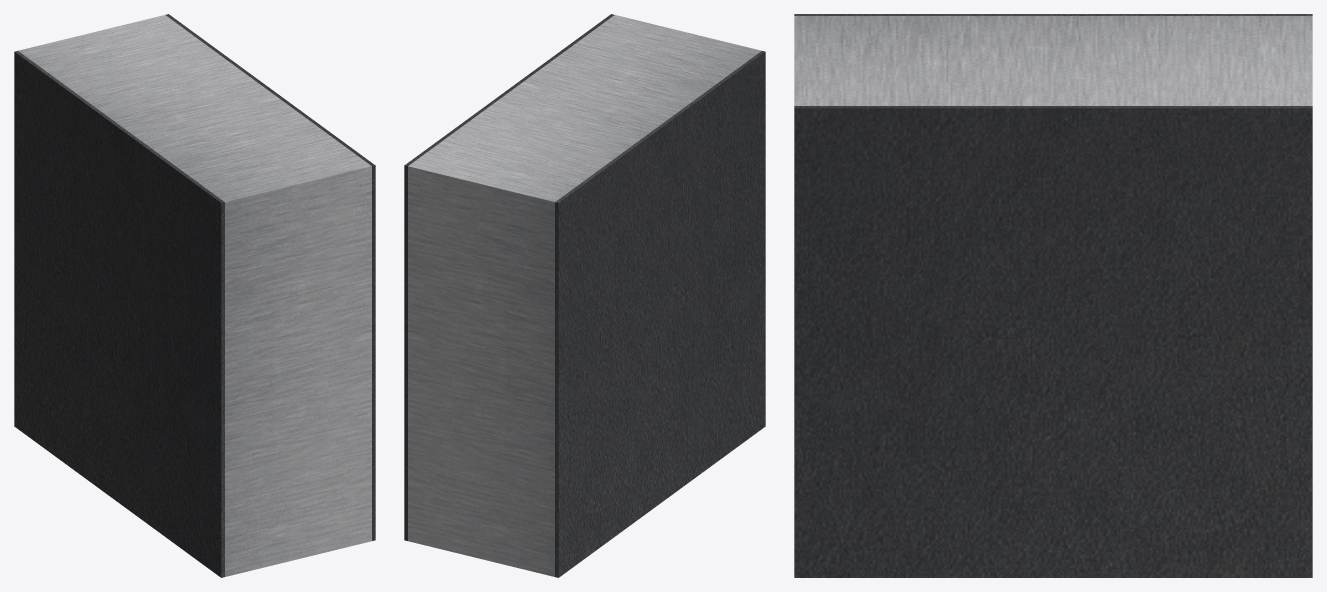
File: 05_computer_tower_destructible_largeparts.glb
The picture shows the model from 3 angles, left to right: view 1: azimuth 30°, elevation 25°; view 2: azimuth 150°, elevation 25°; view 3: azimuth 270°, elevation 25°; orthographic projection. The views are drawn at different scales.
Parts seen in each view (by area): view 1: Main_Rack_No_Side_Covers, Side_Cover_Left, Side_Cover_Right; view 2: Main_Rack_No_Side_Covers, Side_Cover_Left, Side_Cover_Right; view 3: Side_Cover_Right, Main_Rack_No_Side_Covers, Side_Cover_Left.
Boxes of the visible parts, x1,y1,x2,y2 form: Main_Rack_No_Side_Covers: [18, 15, 371, 576]; Side_Cover_Left: [14, 51, 224, 577]; Side_Cover_Right: [165, 14, 375, 540]; Main_Rack_No_Side_Covers: [408, 15, 761, 576]; Side_Cover_Left: [555, 51, 765, 577]; Side_Cover_Right: [404, 14, 614, 540]; Side_Cover_Right: [794, 106, 1312, 577]; Main_Rack_No_Side_Covers: [794, 16, 1312, 105]; Side_Cover_Left: [794, 14, 1312, 15].
Bounding box in the file's own units: 0.2622 × 0.6091 × 0.6091.
Materials: 2 (2 with a texture image).
